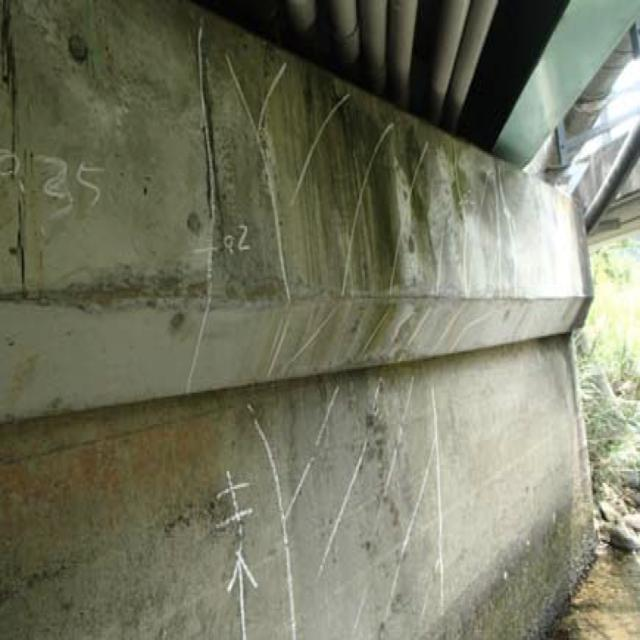leakage: (309, 73, 444, 308)
